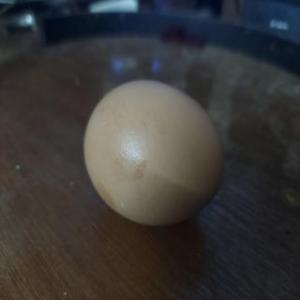egg: (78, 76, 230, 228)
